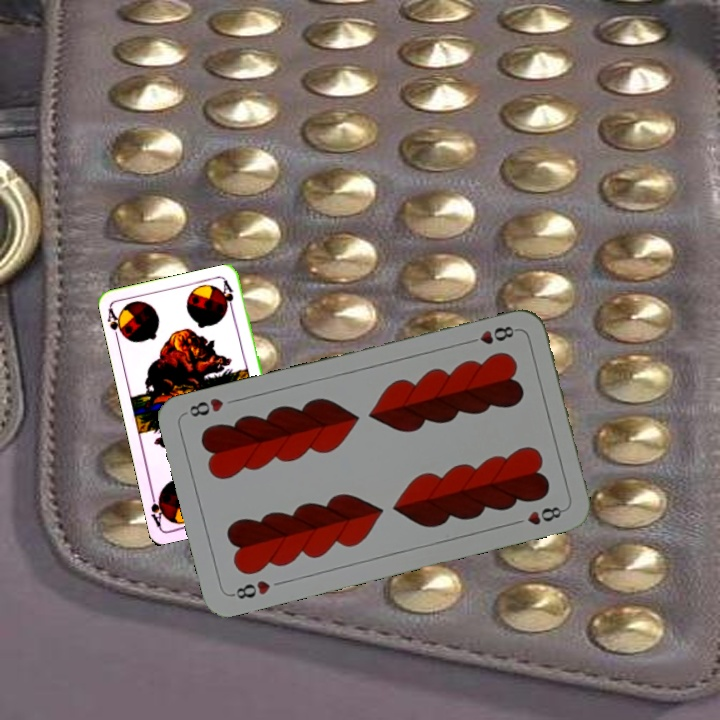H8: (462, 322, 520, 347), (227, 576, 273, 602)
SA: (104, 304, 129, 345)
